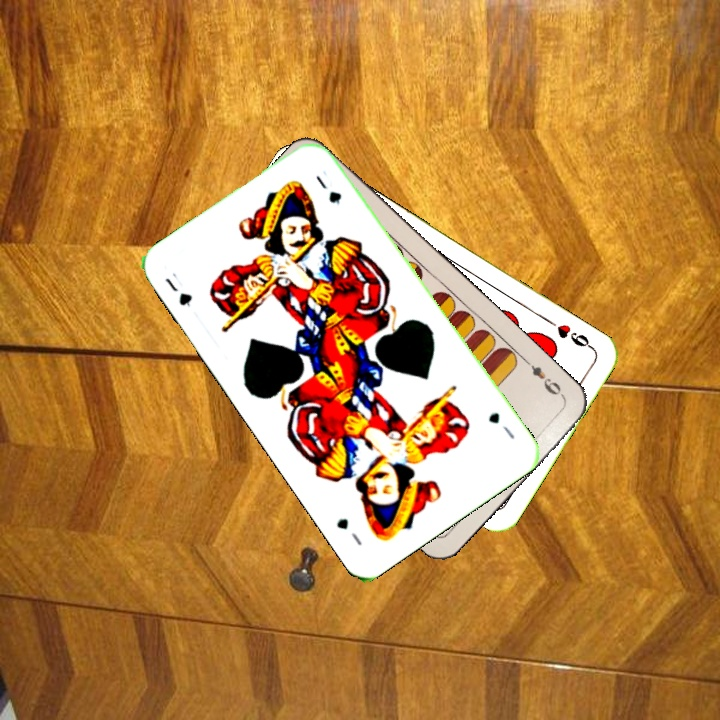E9: (520, 355, 568, 401)
GU: (160, 268, 195, 310), (484, 407, 518, 442)
H9: (543, 315, 596, 352)
